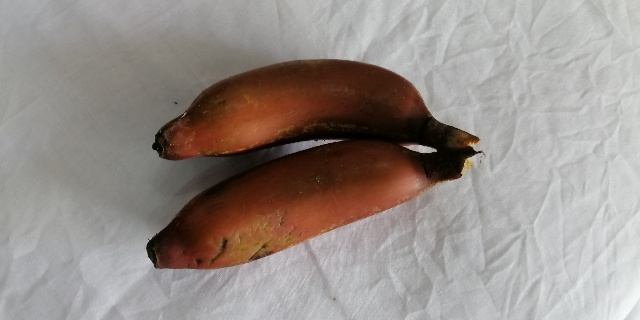banana_red: (139, 142, 469, 268), (152, 60, 484, 160)
